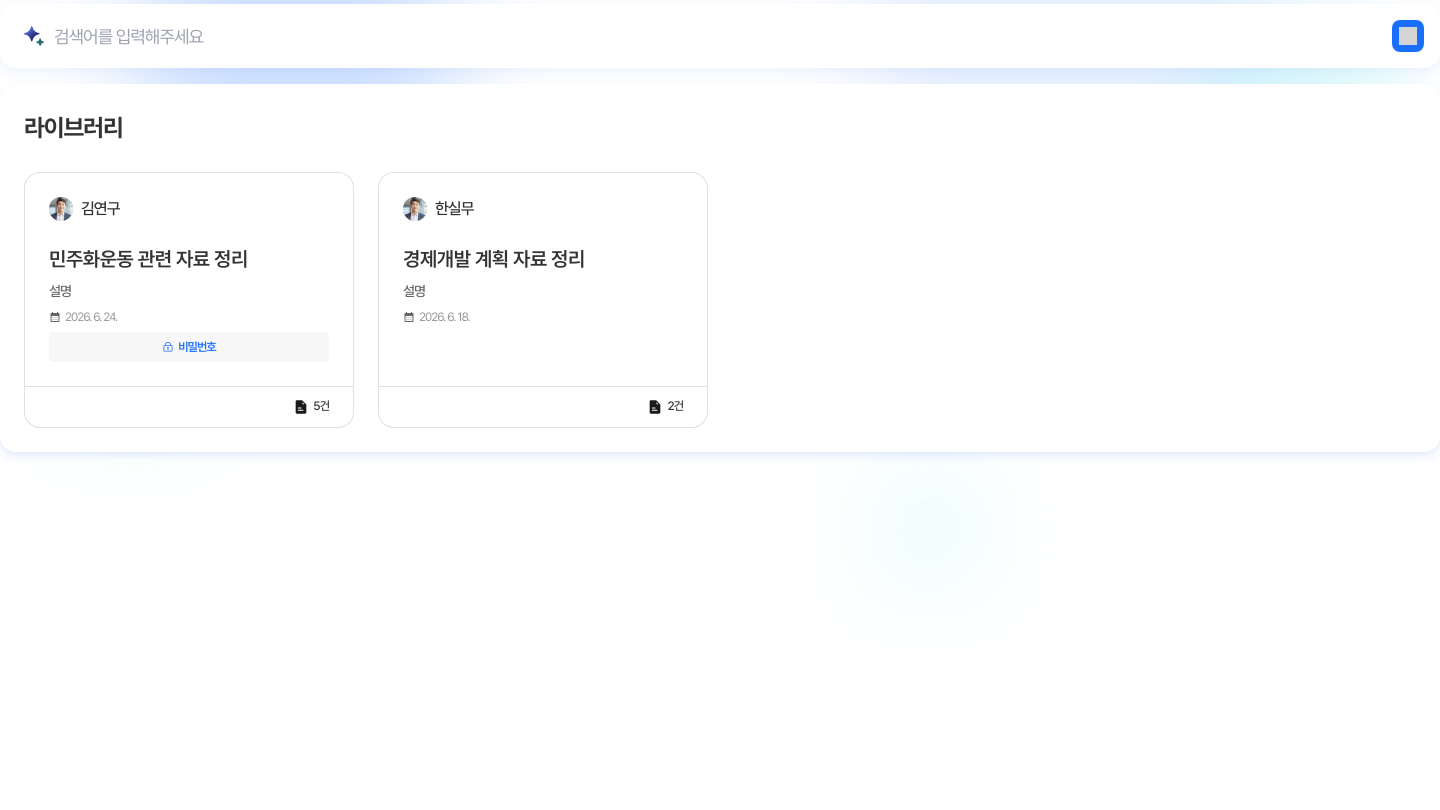
"아니오" 클릭 시 모달이 닫히고 어디로도 이동하지 않는다
Click the button "민주화운동 관련 자료 정리" at (148, 259), box left=49, top=245, right=248, bottom=273
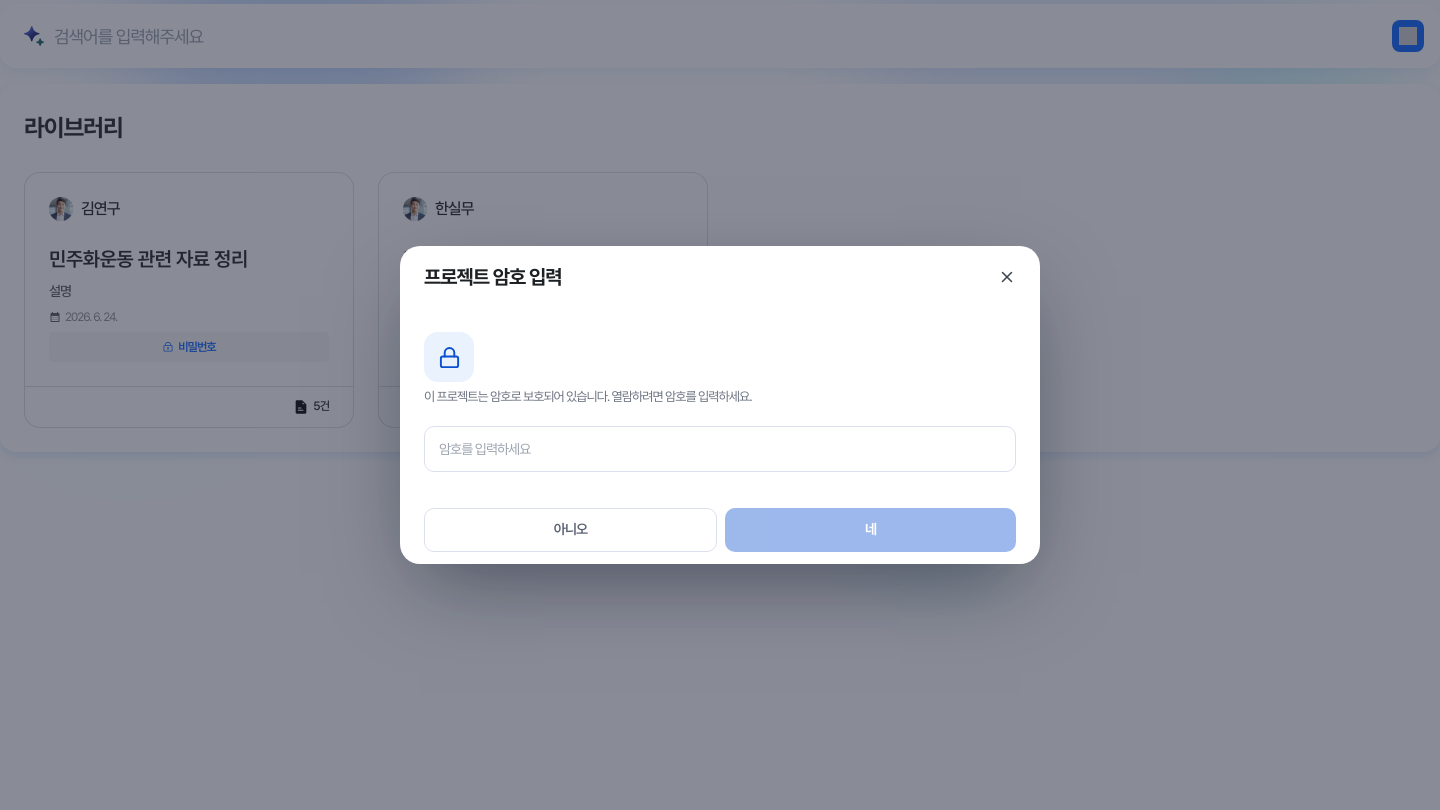
expect the heading "프로젝트 암호 입력" is shown: met, box left=424, top=262, right=562, bottom=292
Click the button "아니오" at (570, 530), box left=424, top=508, right=717, bottom=552
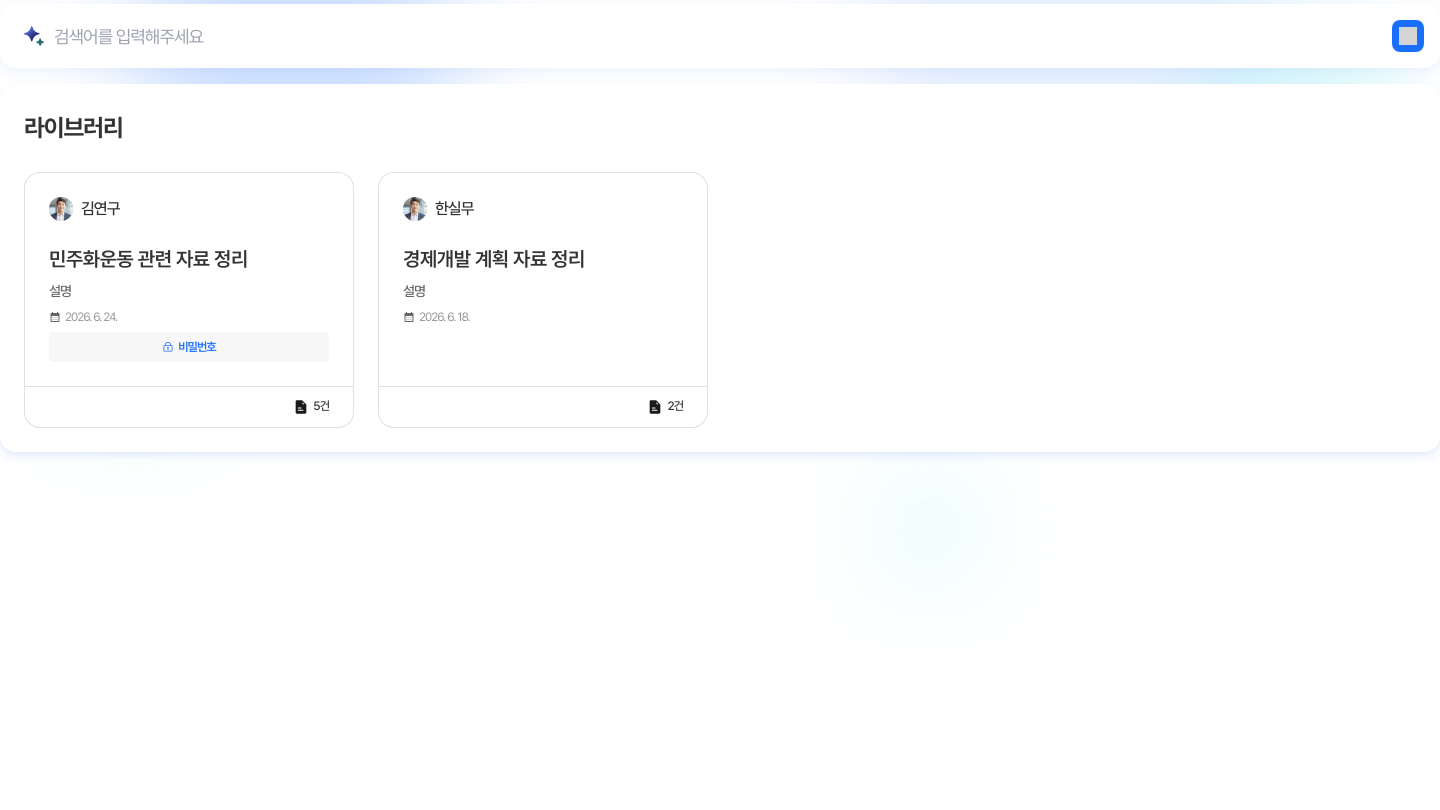
expect the heading "프로젝트 암호 입력" is gone: met
